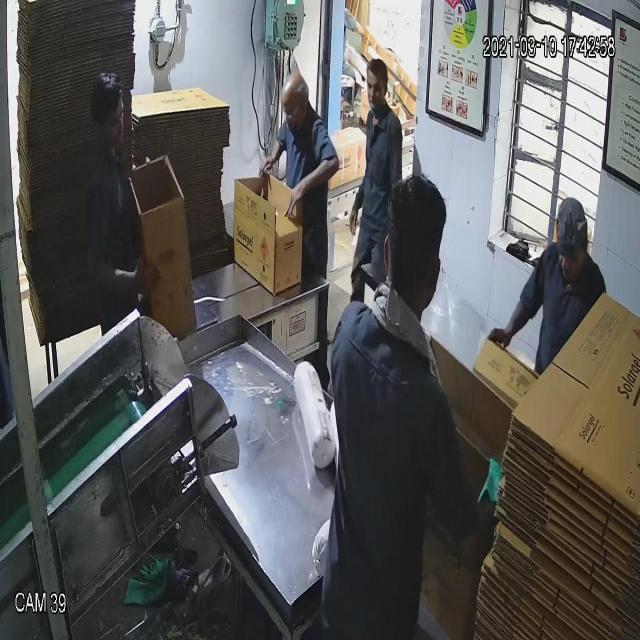No_Gloves: (55, 66, 510, 319)
